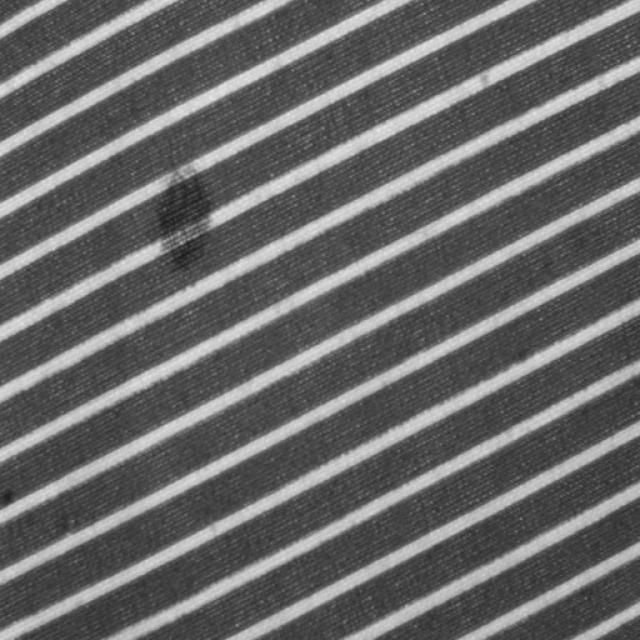Stain-Defect: (155, 164, 210, 269)
